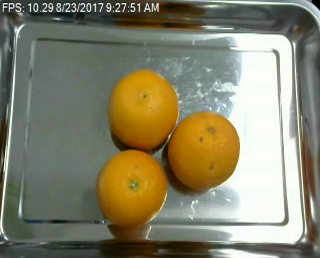Orange: (95, 148, 168, 228), (107, 69, 178, 150), (167, 111, 241, 188)
